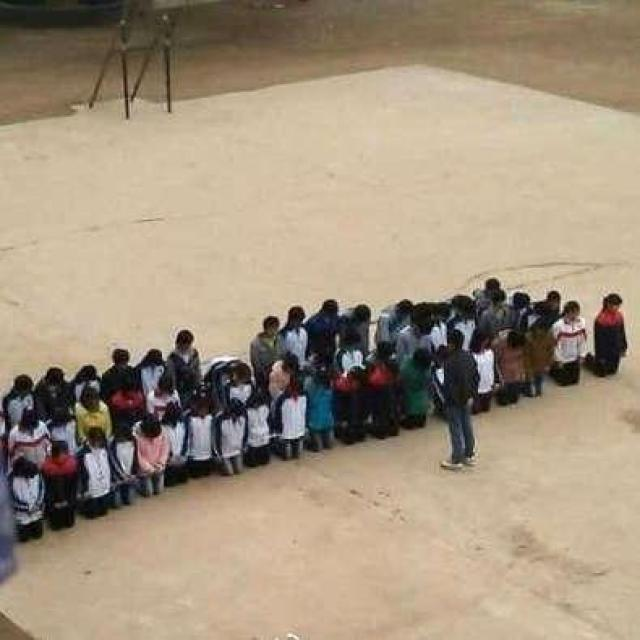non-fight: (422, 330, 484, 472)
